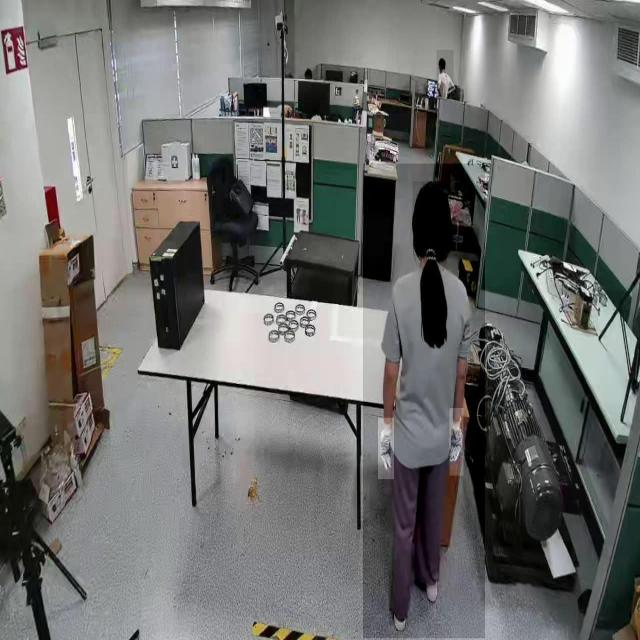hand_glove: (378, 418, 394, 480), (450, 408, 464, 476)
head_nohelmet: (413, 181, 451, 216)
person: (363, 164, 485, 639), (436, 50, 454, 100)
shoes: (388, 586, 412, 632), (421, 561, 443, 604)
